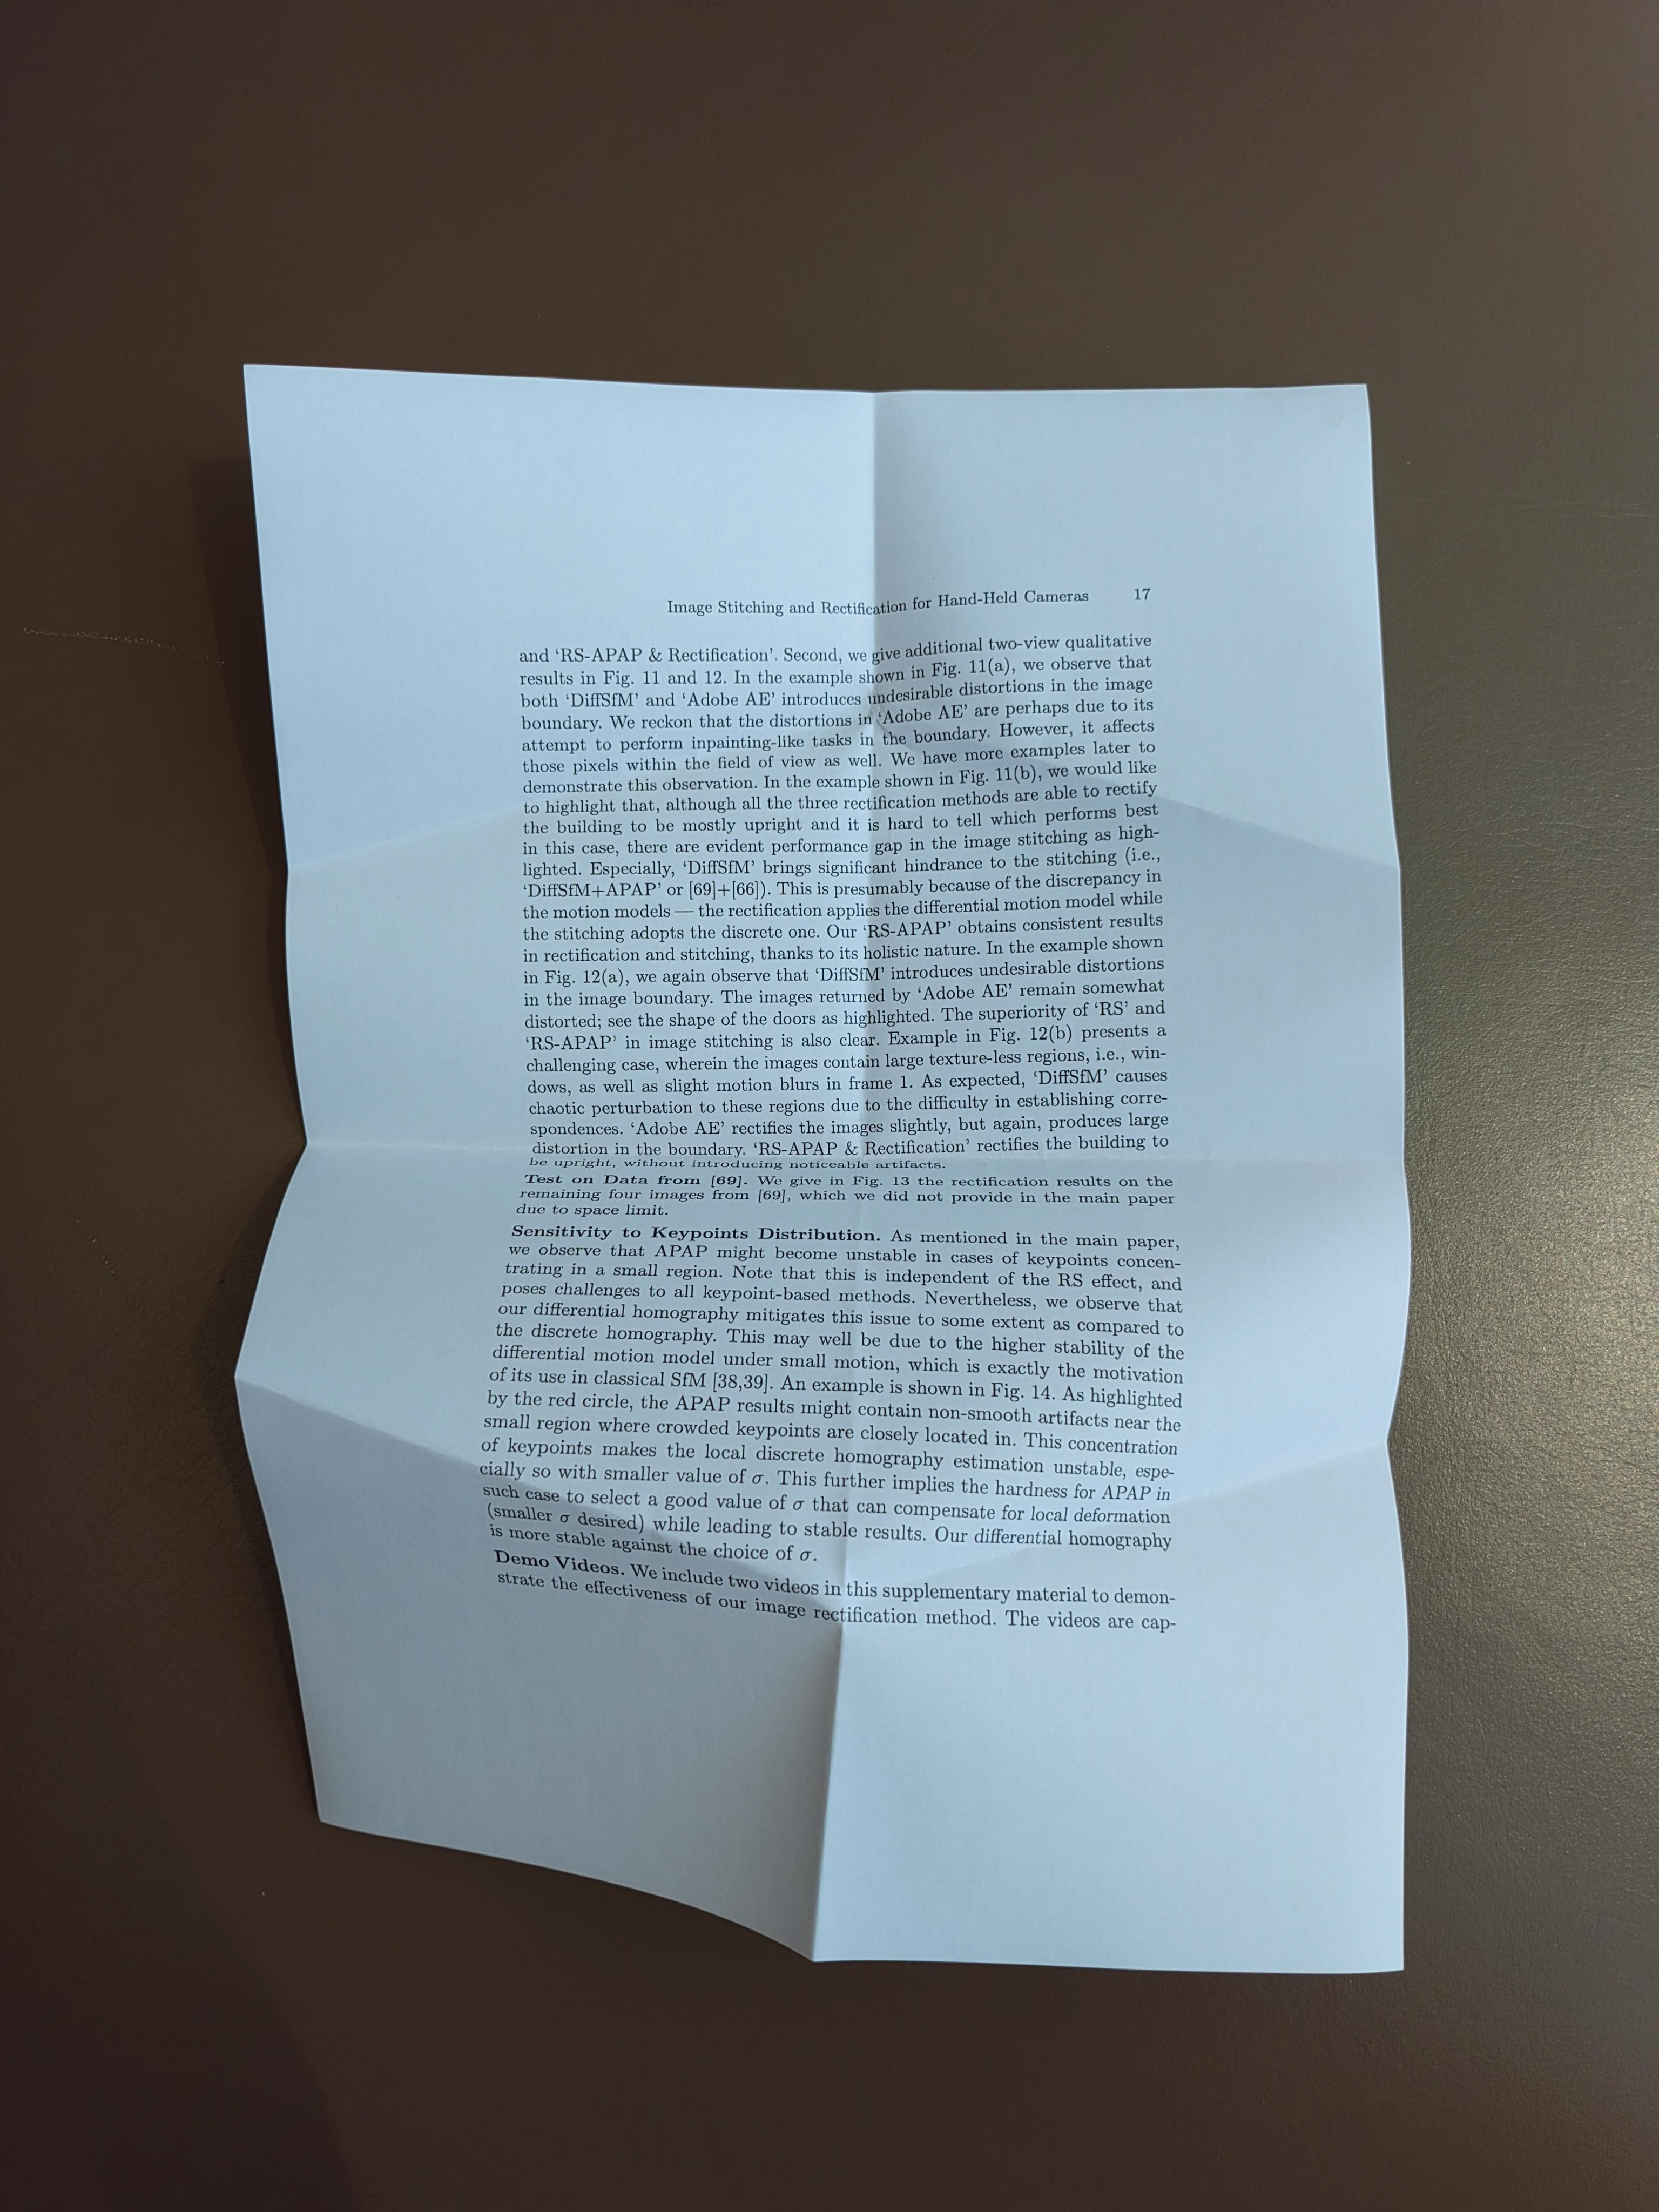paper: (49, 206, 1486, 2212)
